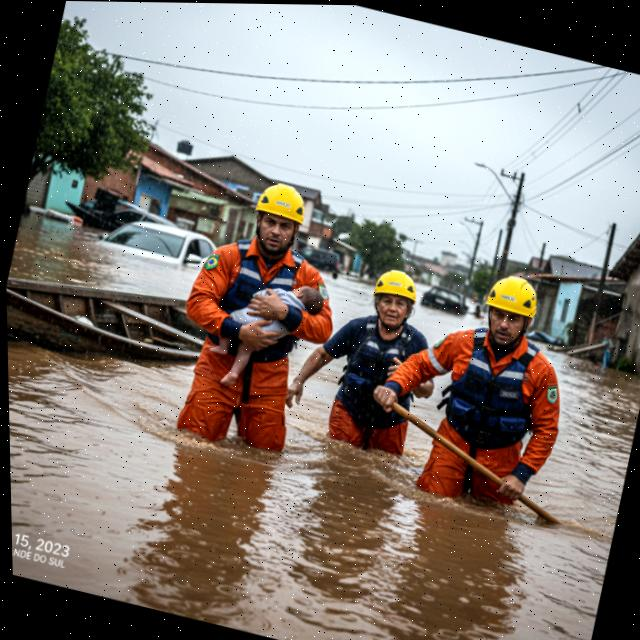civilian: (198, 254, 332, 404)
rescuer: (150, 161, 370, 479), (350, 247, 596, 531), (268, 235, 464, 476)
